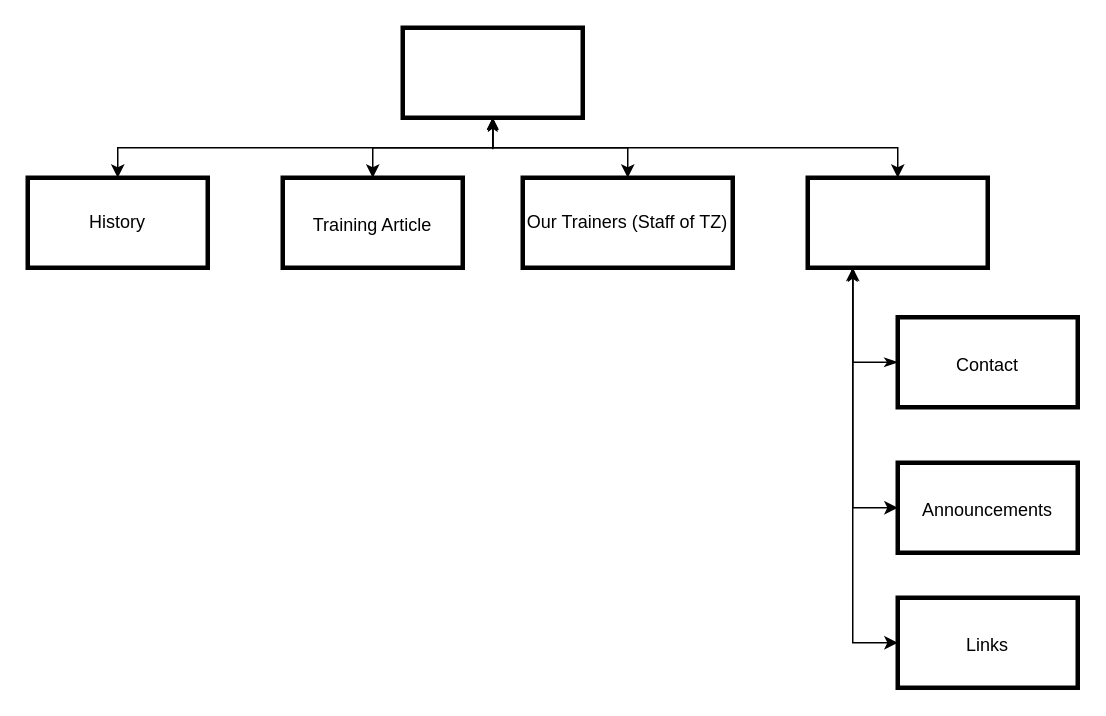
The diagram is 1106 pixels wide and 716 high, and some of its shapes have lost their labels. Here are the shapes that lost their labels. From the top down, the centre of each, then its label:
At pixel 492 72: "Home".
At pixel 897 222: "Info".
